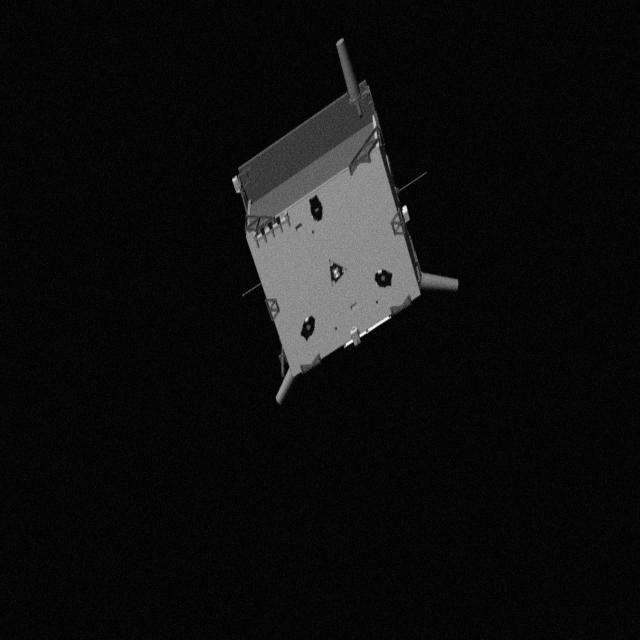satellite: (220, 32, 482, 408)
